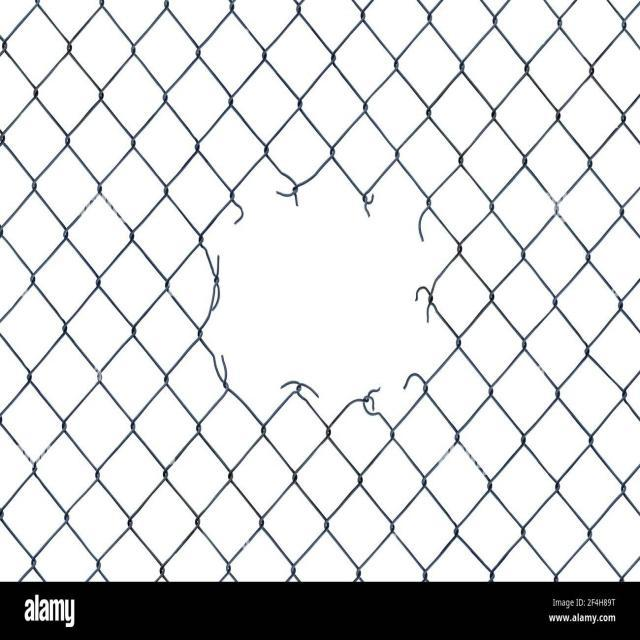fence line: (200, 173, 453, 420)
